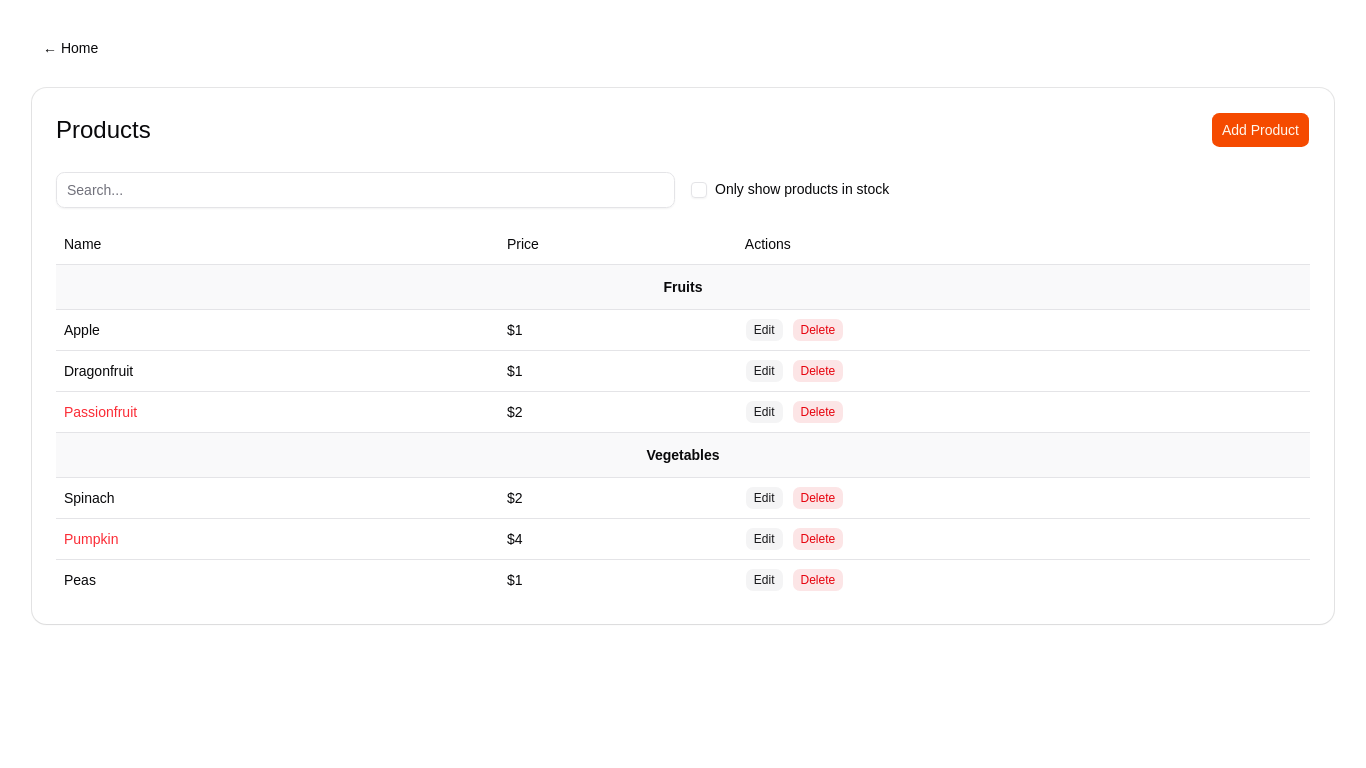
Test case: FilterableProductTable › shows edit form with product data when Edit button is clicked
Expected: the text "Apple" is shown, [64,322,100,338]
Click the button "Edit" in the row of "Apple" at (764,330), box [745,318,784,342]
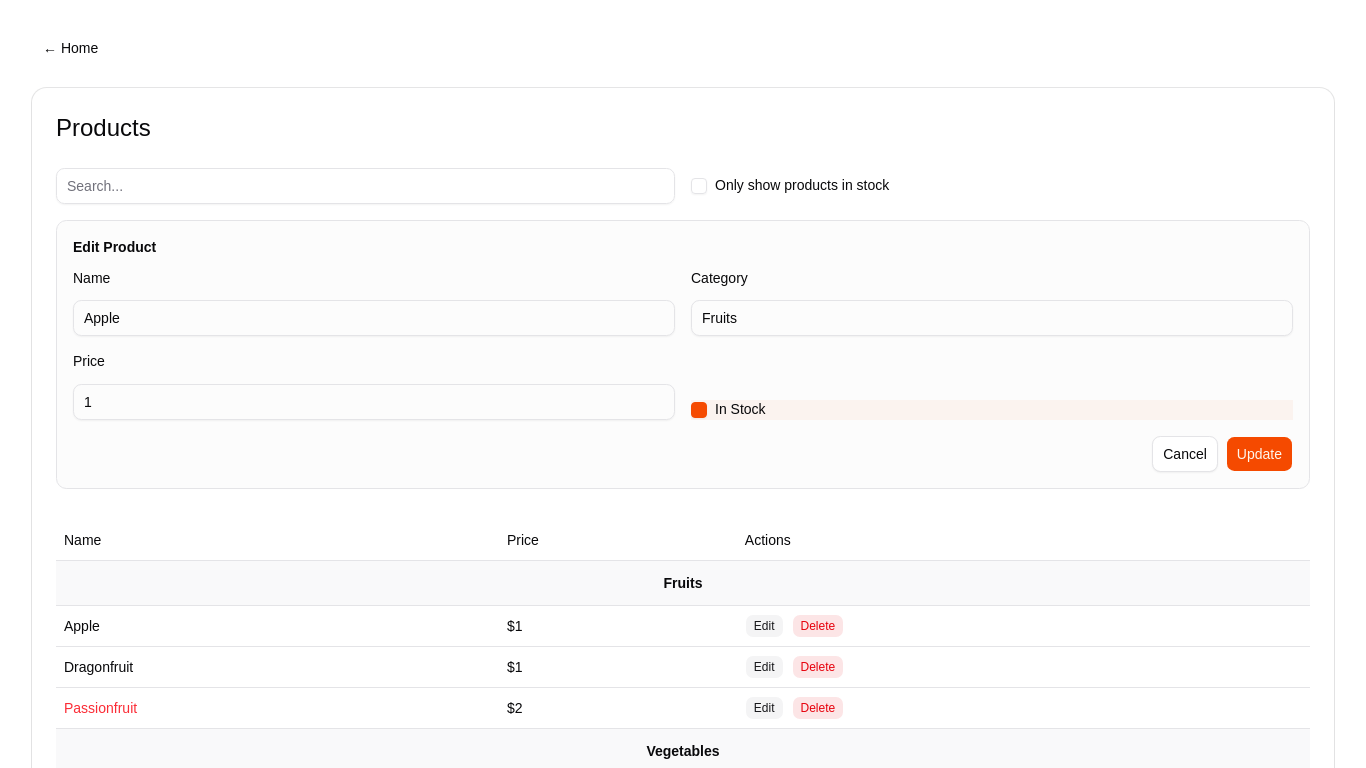
Expected: the heading "Edit Product" is shown, [73,239,156,255]
Expected: the field labelled "Name" holds "Apple", [73,300,675,336]
